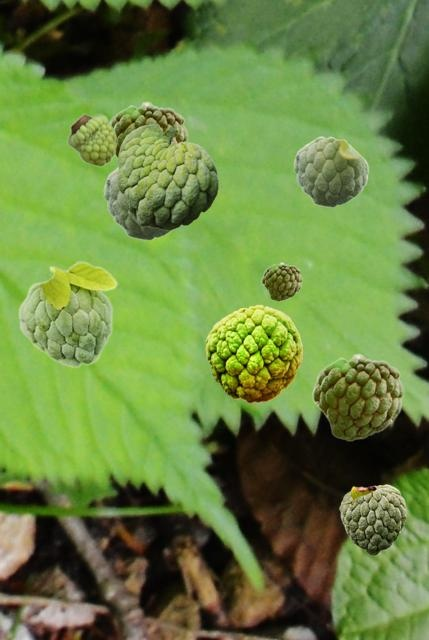atis: (17, 260, 117, 367), (117, 123, 217, 229), (205, 304, 301, 402), (311, 353, 403, 440), (293, 136, 368, 206), (103, 167, 173, 239), (339, 484, 405, 554), (110, 101, 187, 158), (67, 113, 116, 166), (261, 262, 301, 300)
